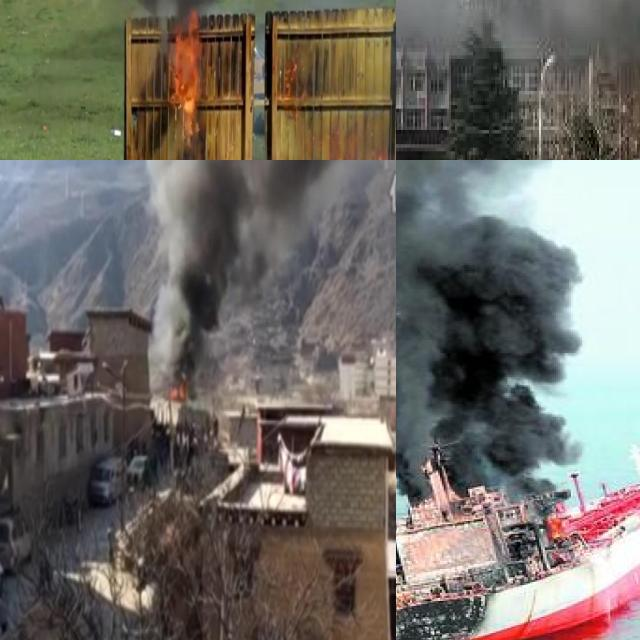fire: (169, 15, 202, 120), (168, 381, 187, 401)
smoke: (396, 160, 583, 503), (149, 160, 339, 382), (396, 0, 640, 73)
